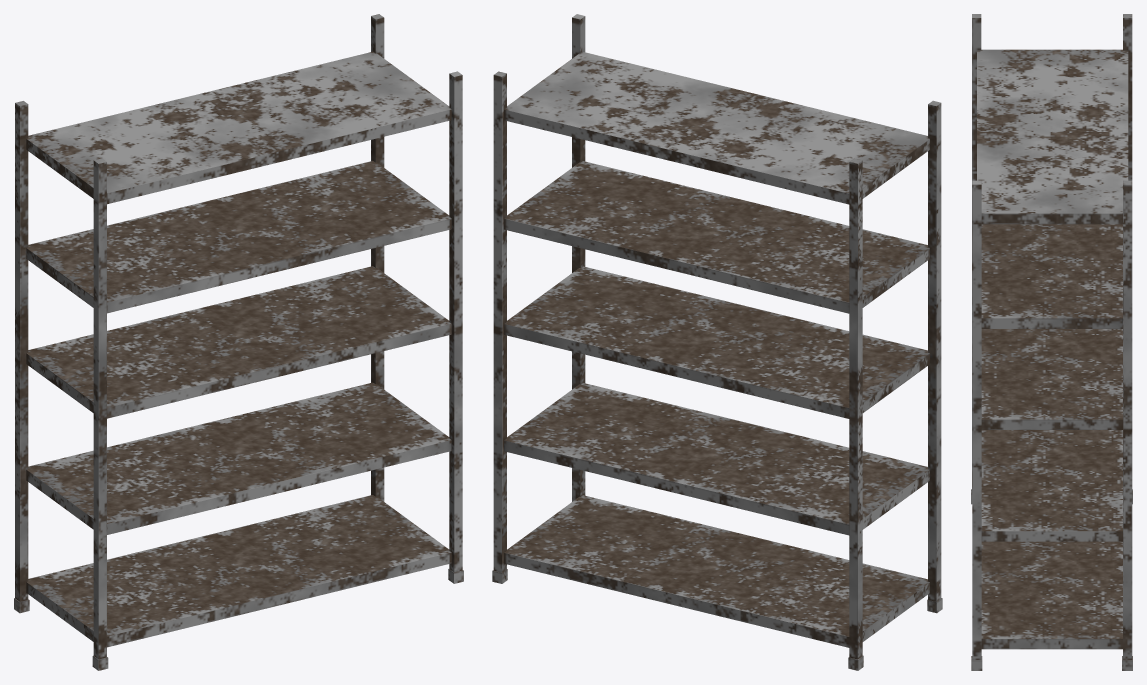
File: szafka_lab.glb
3 views of the same model, side by side, from view 1: azimuth 30°, elevation 25°; view 2: azimuth 150°, elevation 25°; view 3: azimuth 270°, elevation 25° (orthographic). The views are drawn at different scales.
Visible parts, largest first — view 1: szafka; view 2: szafka; view 3: szafka.
Part boxes in pixels (x1,y1,x2,y2): szafka: [14, 14, 463, 670]; szafka: [492, 14, 942, 670]; szafka: [971, 14, 1132, 670].
Bounding box in the file's own units: 1.32 × 1.75 × 0.5272.
Materials: 1 (1 with a texture image).
